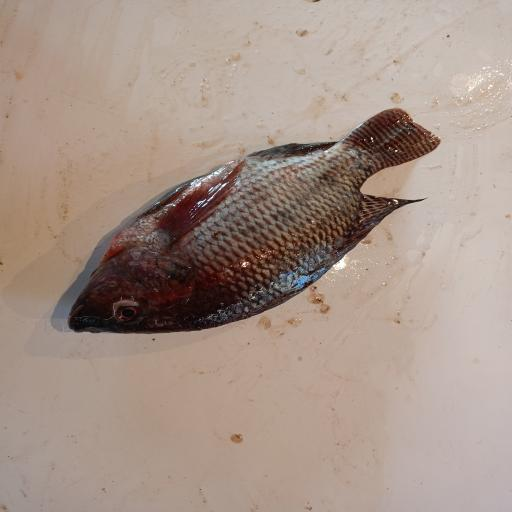Tilapia: (68, 108, 441, 334)
